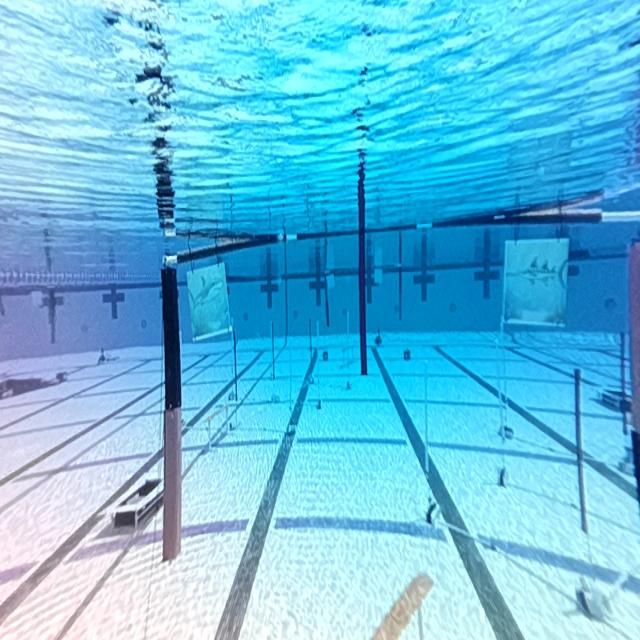pointed_nose: (504, 238, 569, 325)
round_nose: (185, 263, 232, 340)
